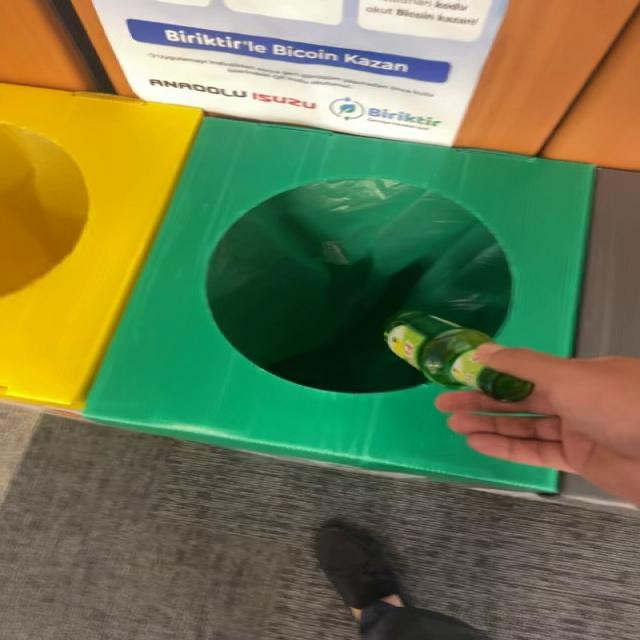glass: (384, 311, 535, 402)
